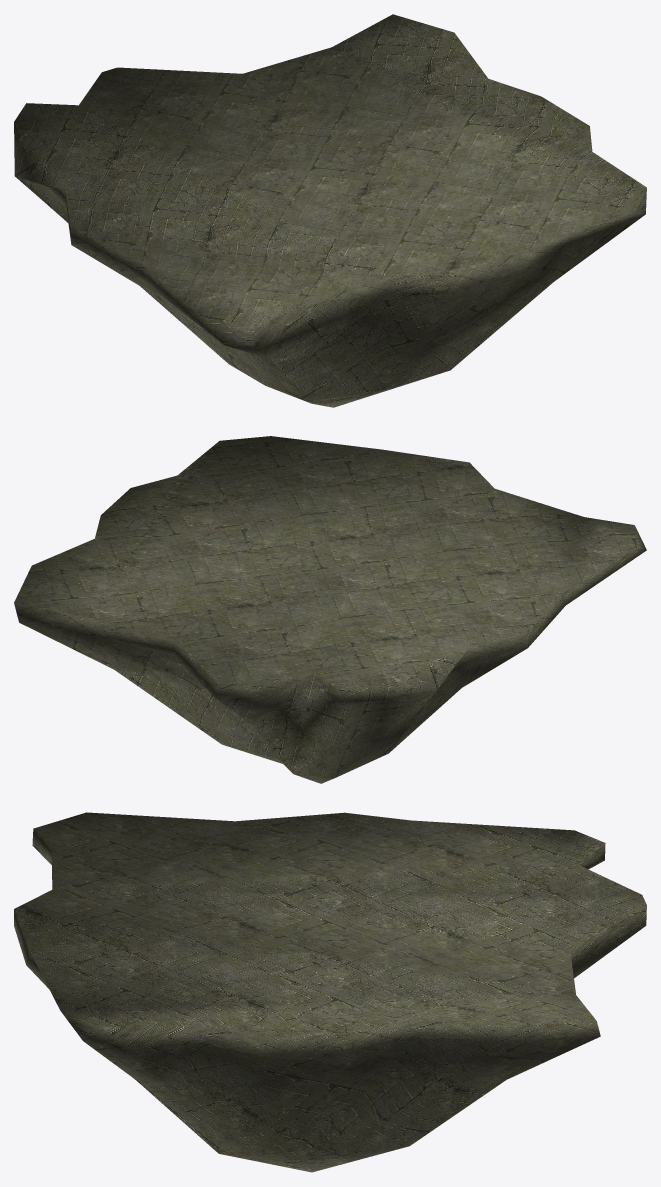
File: Flying Rock.FBX
3 renders of one model, top to bottom at view 1: azimuth 30°, elevation 25°; view 2: azimuth 150°, elevation 25°; view 3: azimuth 270°, elevation 25°, orthographic. The views are drawn at different scales.
Visible parts, largest first — view 1: Line001; view 2: Line001; view 3: Line001.
Part boxes in pixels (x1,y1,x2,y2): Line001: [14, 14, 646, 407]; Line001: [14, 436, 646, 783]; Line001: [14, 812, 646, 1172].
Bounding box in the file's own units: 144 × 71.83 × 160.
1 material, 1 textured.
